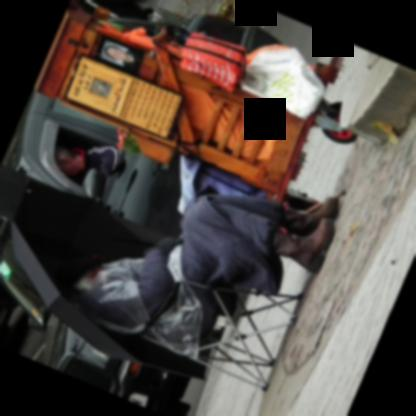handbag: (241, 46, 327, 118), (151, 30, 249, 91)
